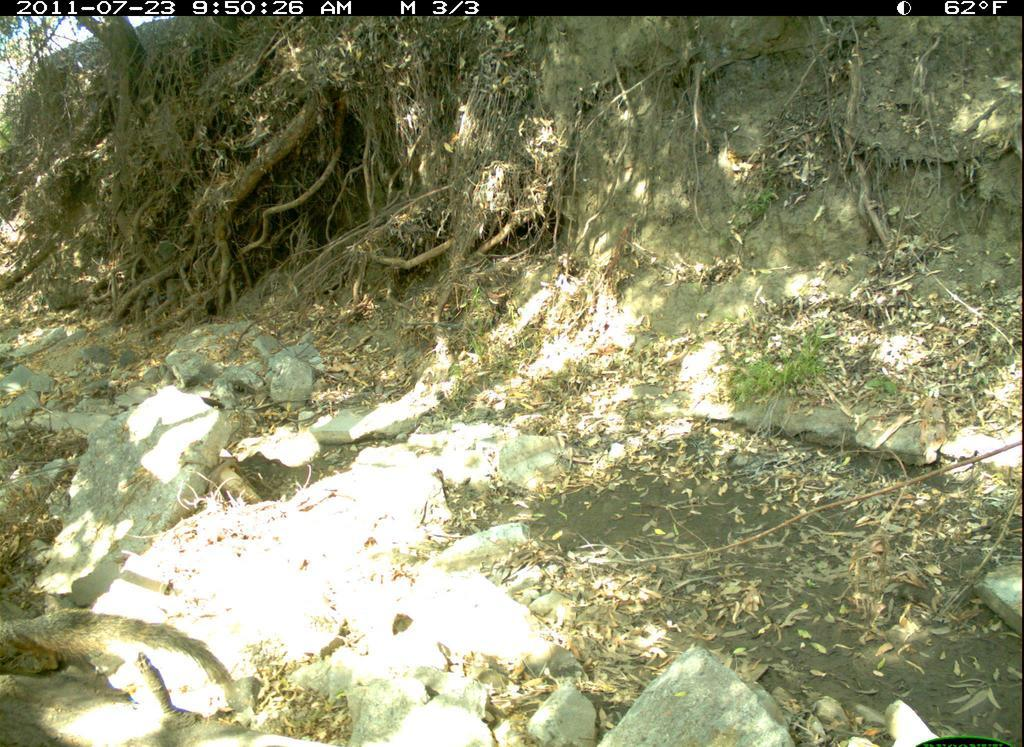squirrel: (2, 605, 253, 706)
